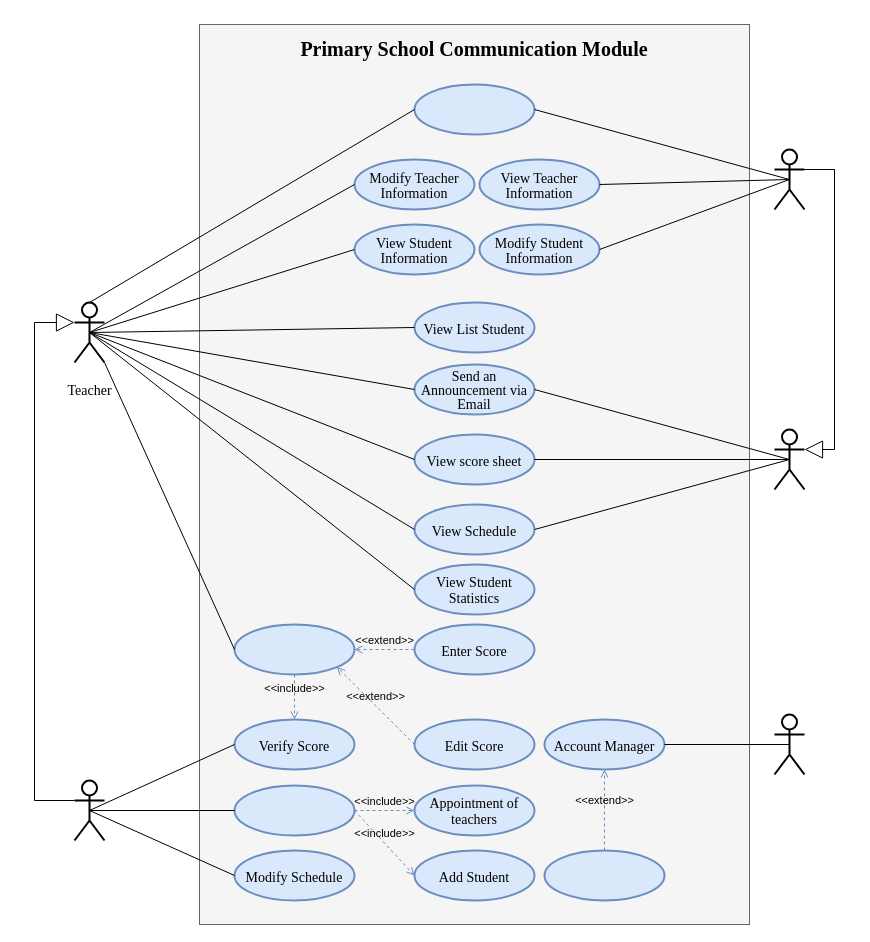
The diagram is 870 pixels wide and 942 high, and some of its shapes have lost their labels. The shapes that lost their labels are listed below. From the top down, each one's centre as x and y in pixels, then its label:
At point (474, 109): "Check Attendance".
At point (789, 179): "Parent".
At point (789, 459): "Student".
At point (294, 649): "Modify Score Sheet".
At point (789, 744): "System Manager".
At point (89, 810): "Principal".
At point (294, 810): "Create Class".
At point (604, 875): "Reset Password".
